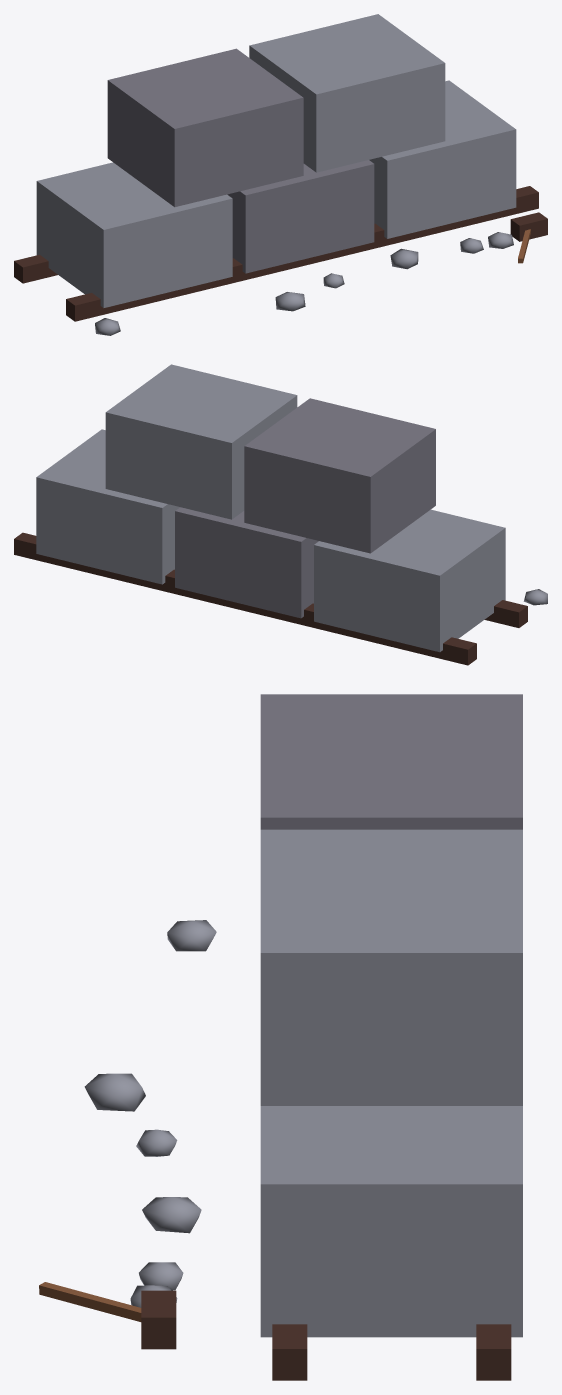
Rendered from stone_blocks.glb.
The picture shows the model from 3 angles, top to bottom: view 1: azimuth 30°, elevation 25°; view 2: azimuth 150°, elevation 25°; view 3: azimuth 270°, elevation 25°; orthographic projection. The views are drawn at different scales.
Parts seen in each view (by area): view 1: block00; view 2: block00; view 3: block00.
Boxes of the visible parts, <box> form: block00: <box>14,14,547,335</box>; block00: <box>14,364,547,665</box>; block00: <box>39,694,522,1380</box>.
Bounding box in the file's own units: 3.6 × 1.29 × 1.66.
